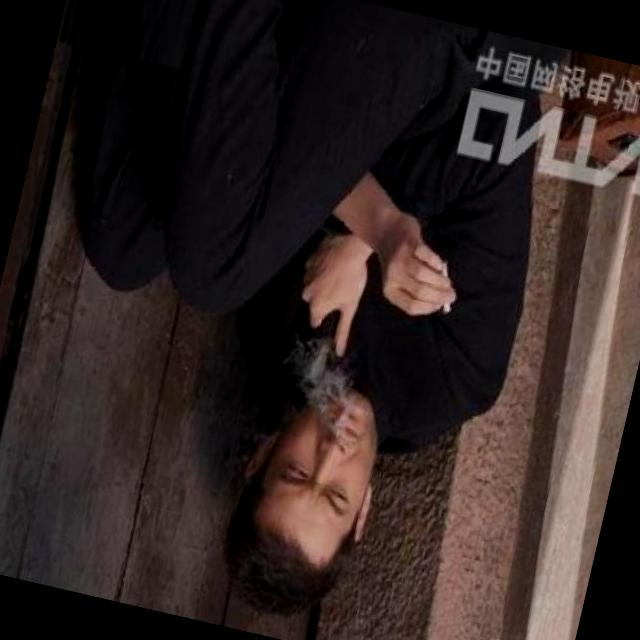cigarette: (426, 258, 464, 317)
